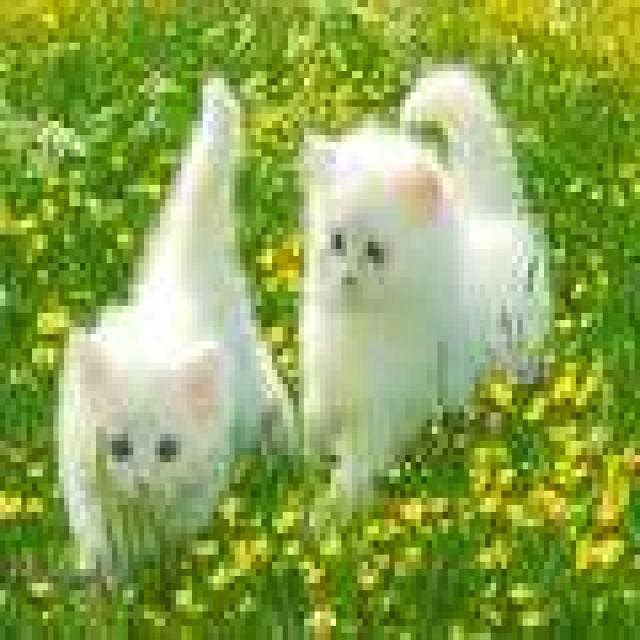KEDI: (294, 55, 556, 510), (60, 76, 287, 570)
